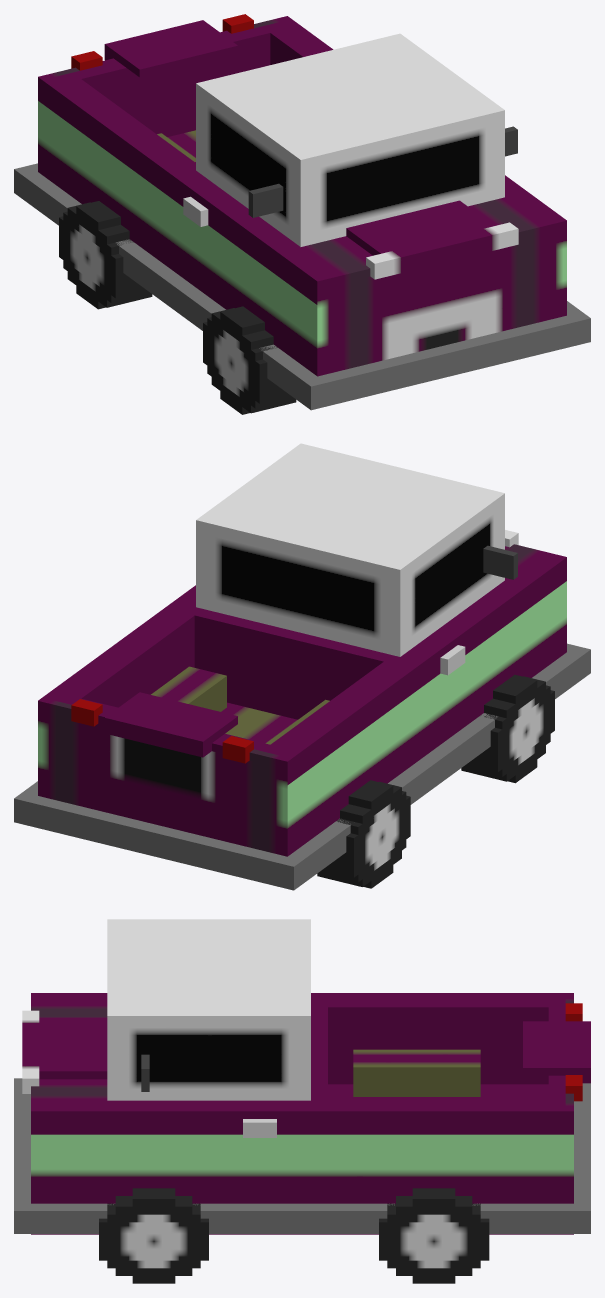
The model's file is car_2_seats_5.fbx.
3 views of the same model, one above another, from view 1: azimuth 30°, elevation 25°; view 2: azimuth 150°, elevation 25°; view 3: azimuth 270°, elevation 25° (orthographic). The views are drawn at different scales.
Visible parts, largest first — view 1: body, back_right_wheel, back_left_wheel; view 2: body, back_left_wheel, back_right_wheel; view 3: body, front_left_wheel, front_right_wheel.
Boxes of the visible parts, <box> form: body: <box>14,14,590,410</box>; back_right_wheel: <box>203,306,296,414</box>; back_left_wheel: <box>59,201,152,309</box>; body: <box>14,443,590,890</box>; back_left_wheel: <box>317,780,410,888</box>; back_right_wheel: <box>461,674,554,783</box>; body: <box>14,919,590,1234</box>; front_left_wheel: <box>379,1188,489,1283</box>; front_right_wheel: <box>99,1188,208,1283</box>.
Bounding box in the file's own units: 39 × 32 × 68.
1 material, 1 textured.
